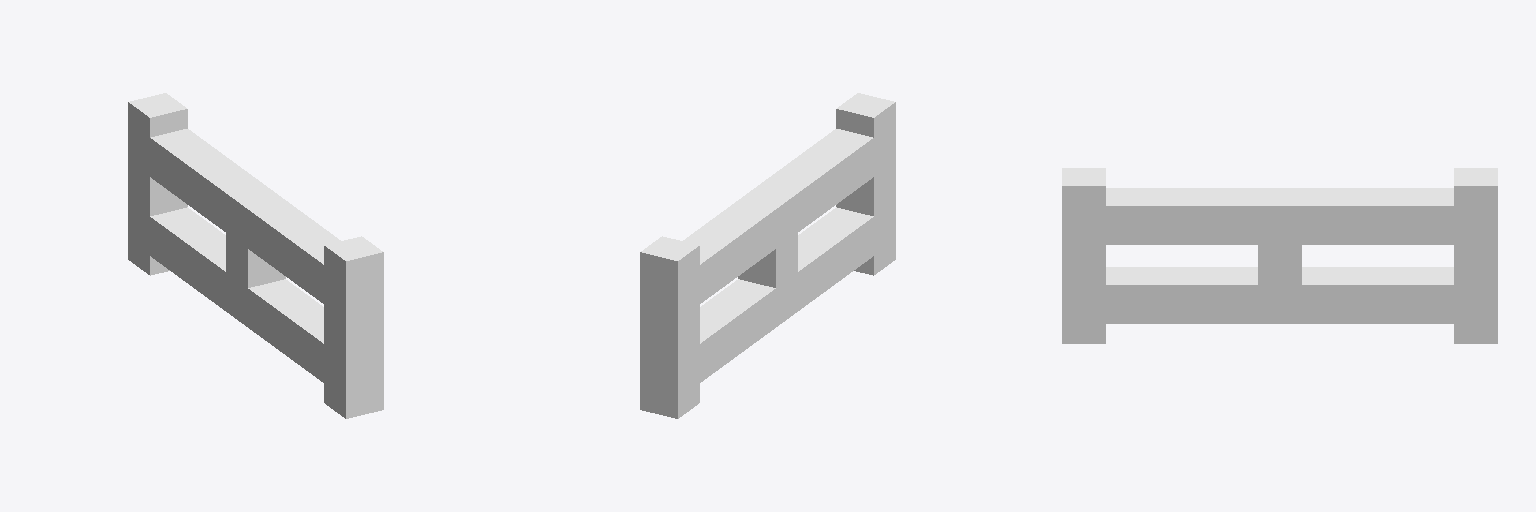
File: wall.obj
3 views of the same model, side by side, from view 1: azimuth 30°, elevation 25°; view 2: azimuth 150°, elevation 25°; view 3: azimuth 270°, elevation 25° (orthographic).
Parts seen in each view (by area): view 1: object 1; view 2: object 1; view 3: object 1.
Boxes of the visible parts, x1=… form: object 1: x1=128, y1=93, x2=383, y2=418; object 1: x1=640, y1=93, x2=895, y2=418; object 1: x1=1062, y1=168, x2=1497, y2=343.
Bounding box in the file's own units: 0.2 × 0.8 × 2.